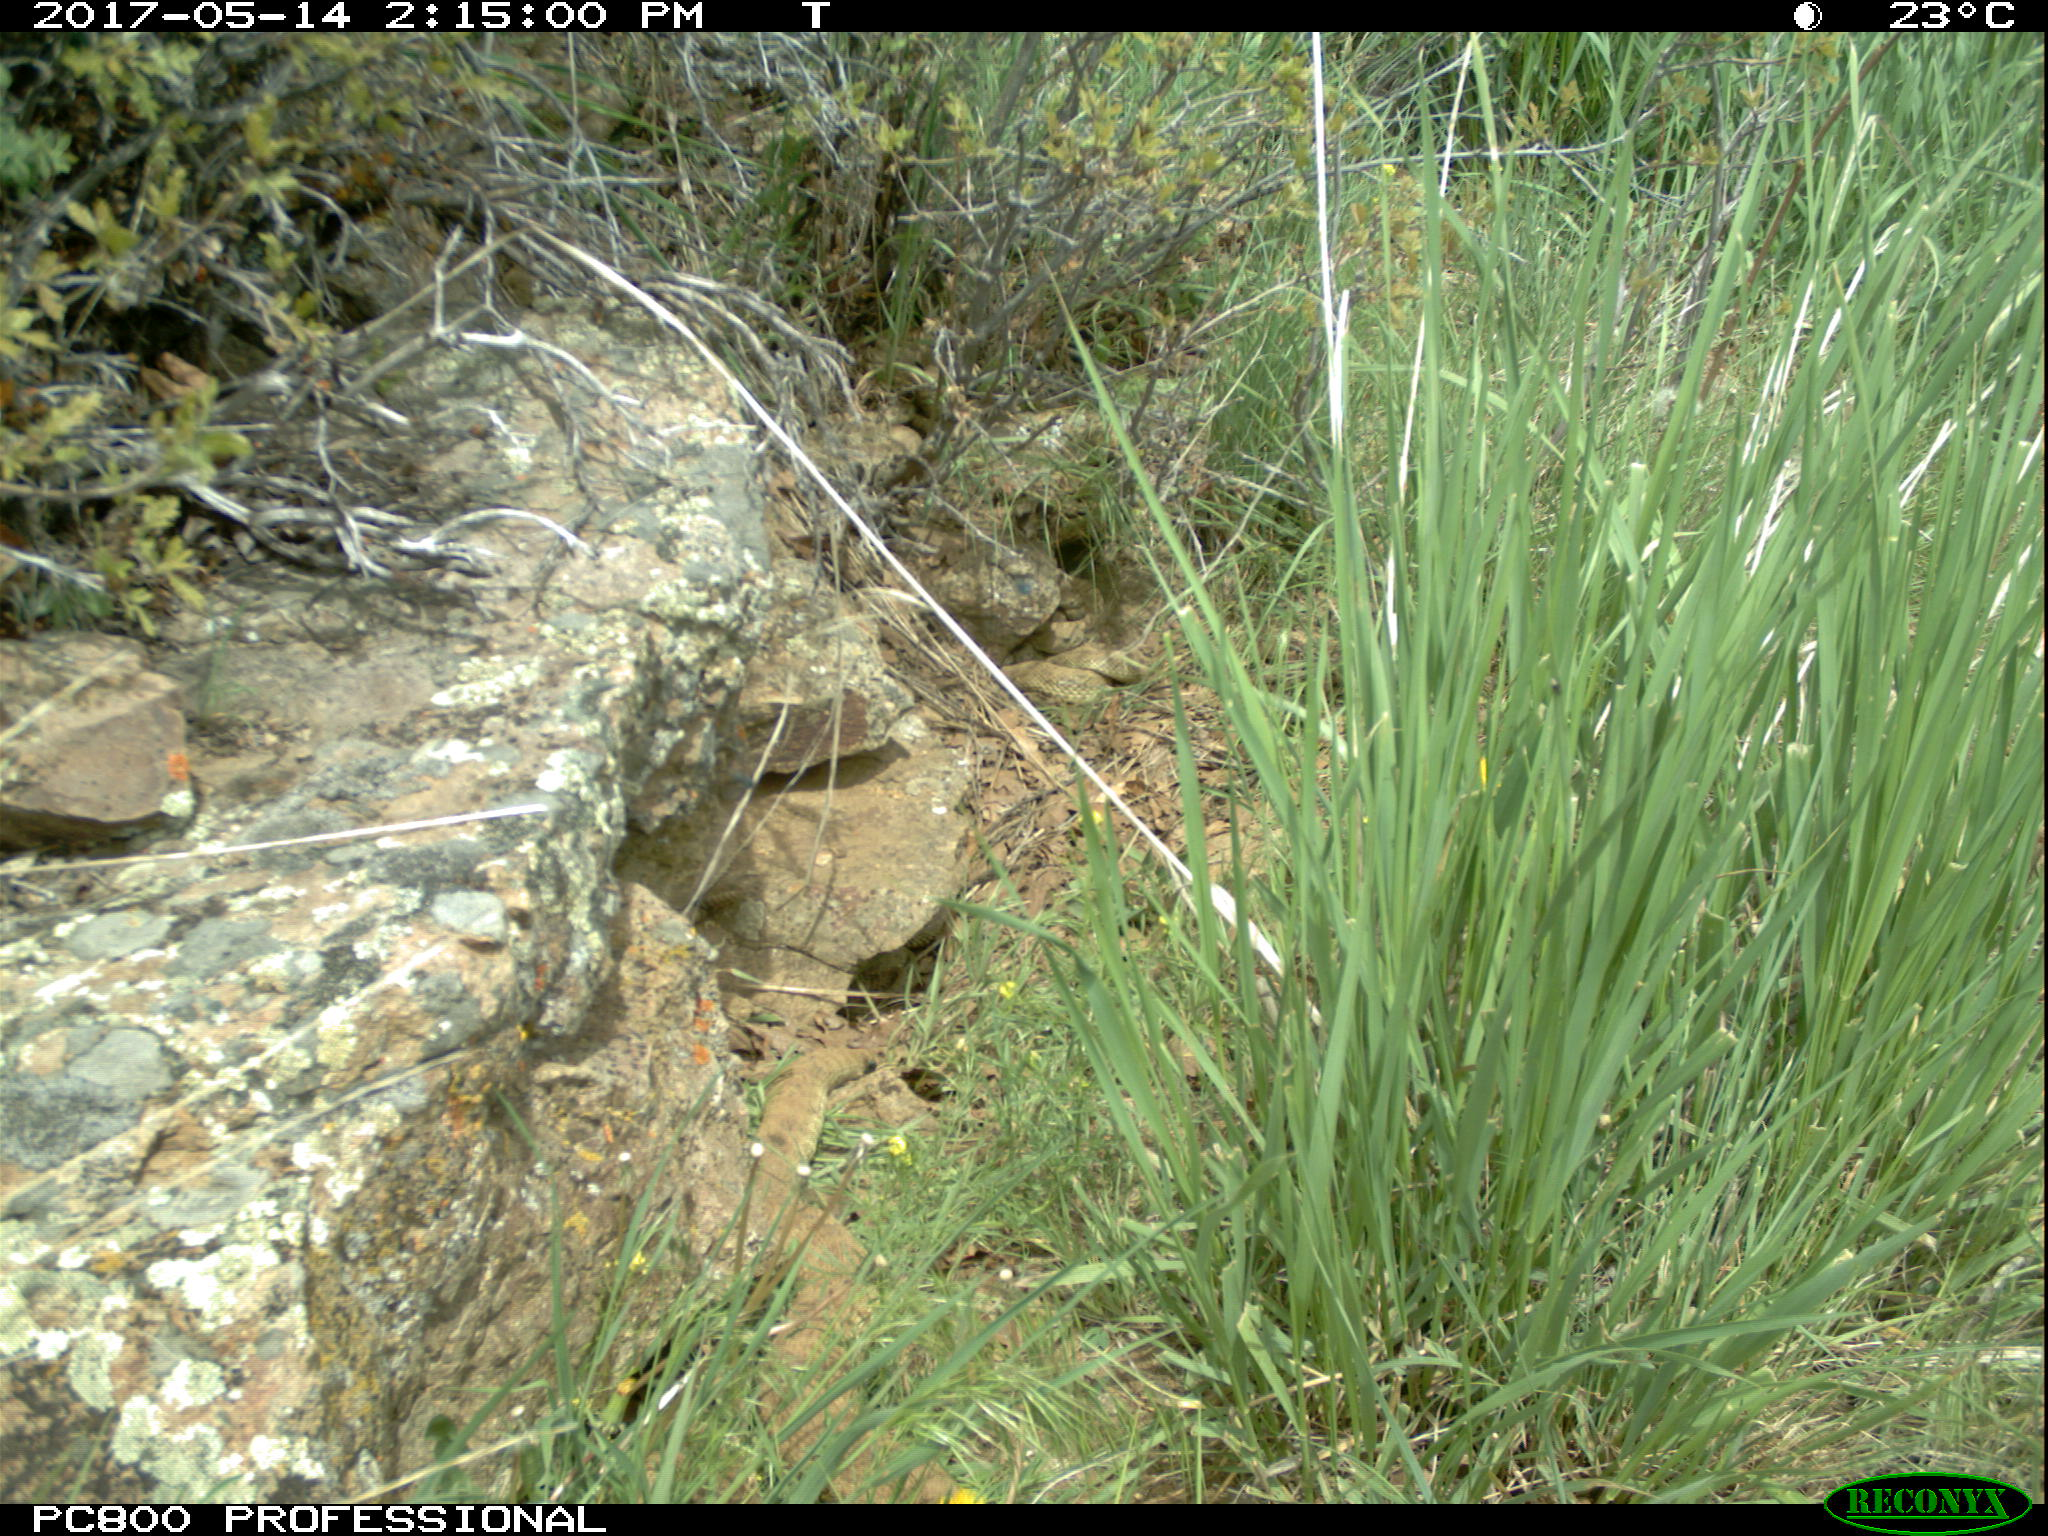snake: (742, 1034, 910, 1499), (1005, 611, 1145, 703)
